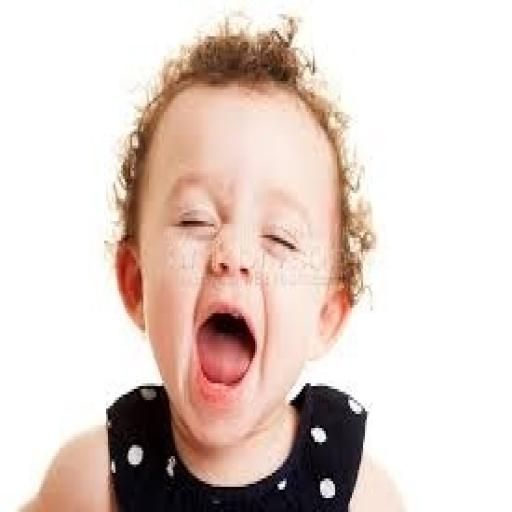laughing: (10, 6, 424, 509)
